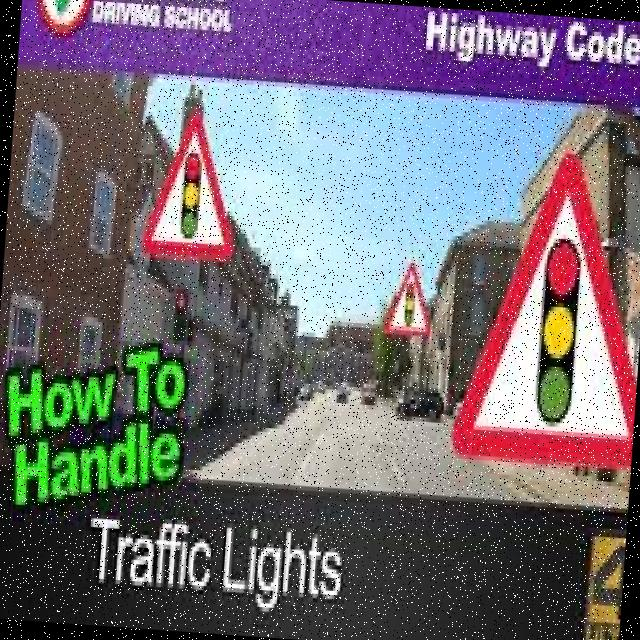light_traffic: (451, 151, 636, 467), (140, 109, 236, 267), (382, 261, 434, 339)
